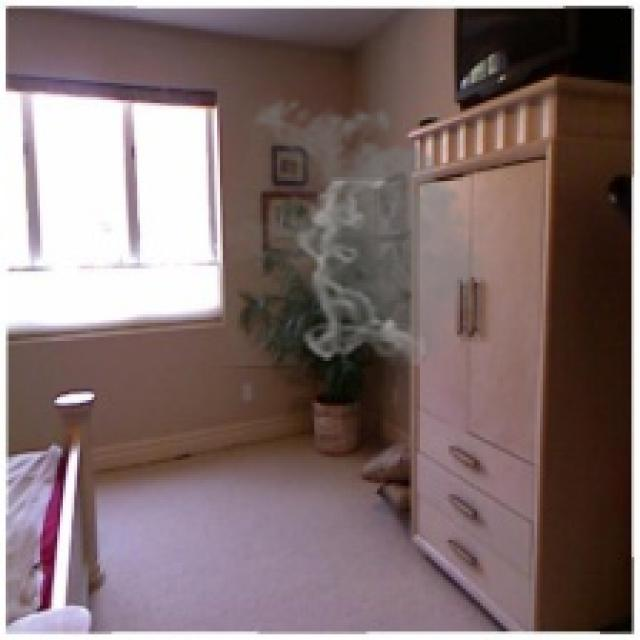smoke: (220, 92, 500, 368)
